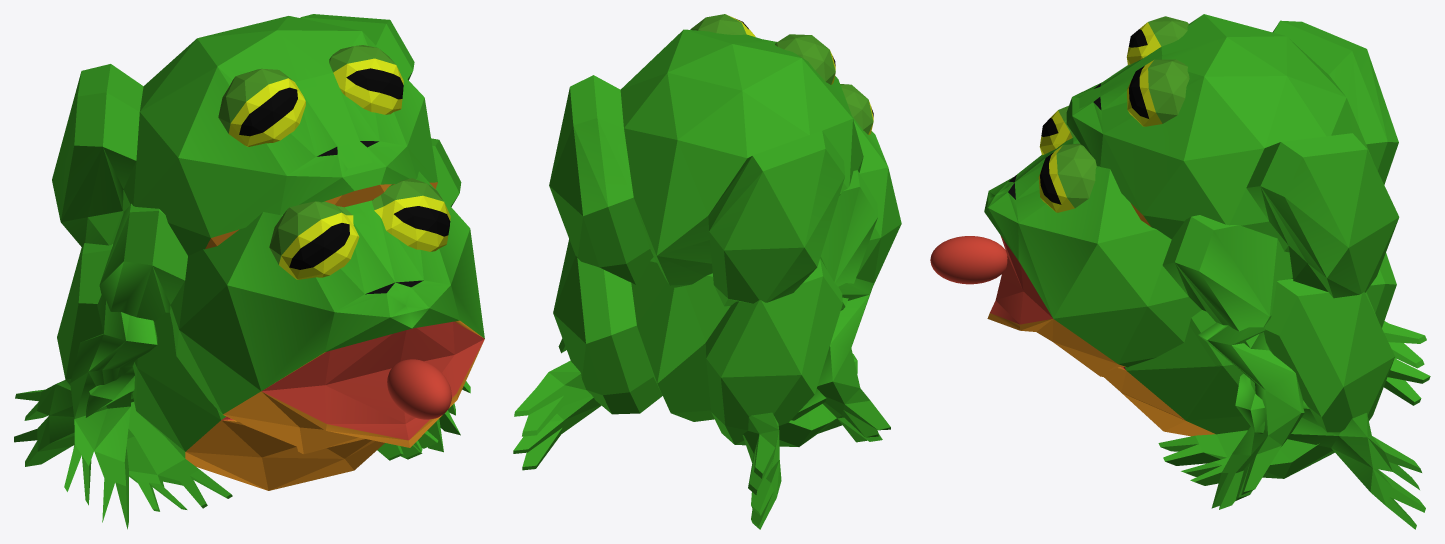
Rendered from Frog.glb.
The picture shows the model from 3 angles, left to right: view 1: azimuth 30°, elevation 25°; view 2: azimuth 150°, elevation 25°; view 3: azimuth 270°, elevation 25°; orthographic projection. The views are drawn at different scales.
Parts seen in each view (by area): view 1: Frog_F1, Frog_F3, Frog_F2, Tongue_Tip, Frog_F0; view 2: Frog_F1, Frog_F2, Frog_F3, Frog_F0; view 3: Frog_F1, Frog_F3, Frog_F0, Frog_F2, Tongue_Tip.
Boxes of the visible parts, x1=… form: Frog_F1: x1=52, y1=14, x2=470, y2=529; Frog_F3: x1=14, y1=138, x2=484, y2=466; Frog_F2: x1=57, y1=243, x2=436, y2=511; Tongue_Tip: x1=387, y1=359, x2=451, y2=419; Frog_F0: x1=111, y1=244, x2=438, y2=511; Frog_F1: x1=549, y1=14, x2=890, y2=442; Frog_F2: x1=577, y1=258, x2=842, y2=446; Frog_F3: x1=513, y1=84, x2=901, y2=529; Frog_F0: x1=553, y1=239, x2=758, y2=444; Frog_F1: x1=1066, y1=14, x2=1399, y2=509; Frog_F3: x1=984, y1=105, x2=1430, y2=529; Frog_F0: x1=1121, y1=253, x2=1396, y2=485; Frog_F2: x1=1098, y1=279, x2=1393, y2=478; Tongue_Tip: x1=930, y1=236, x2=1007, y2=284.
Bounding box in the file's own units: 2.73 × 3.09 × 3.28.
